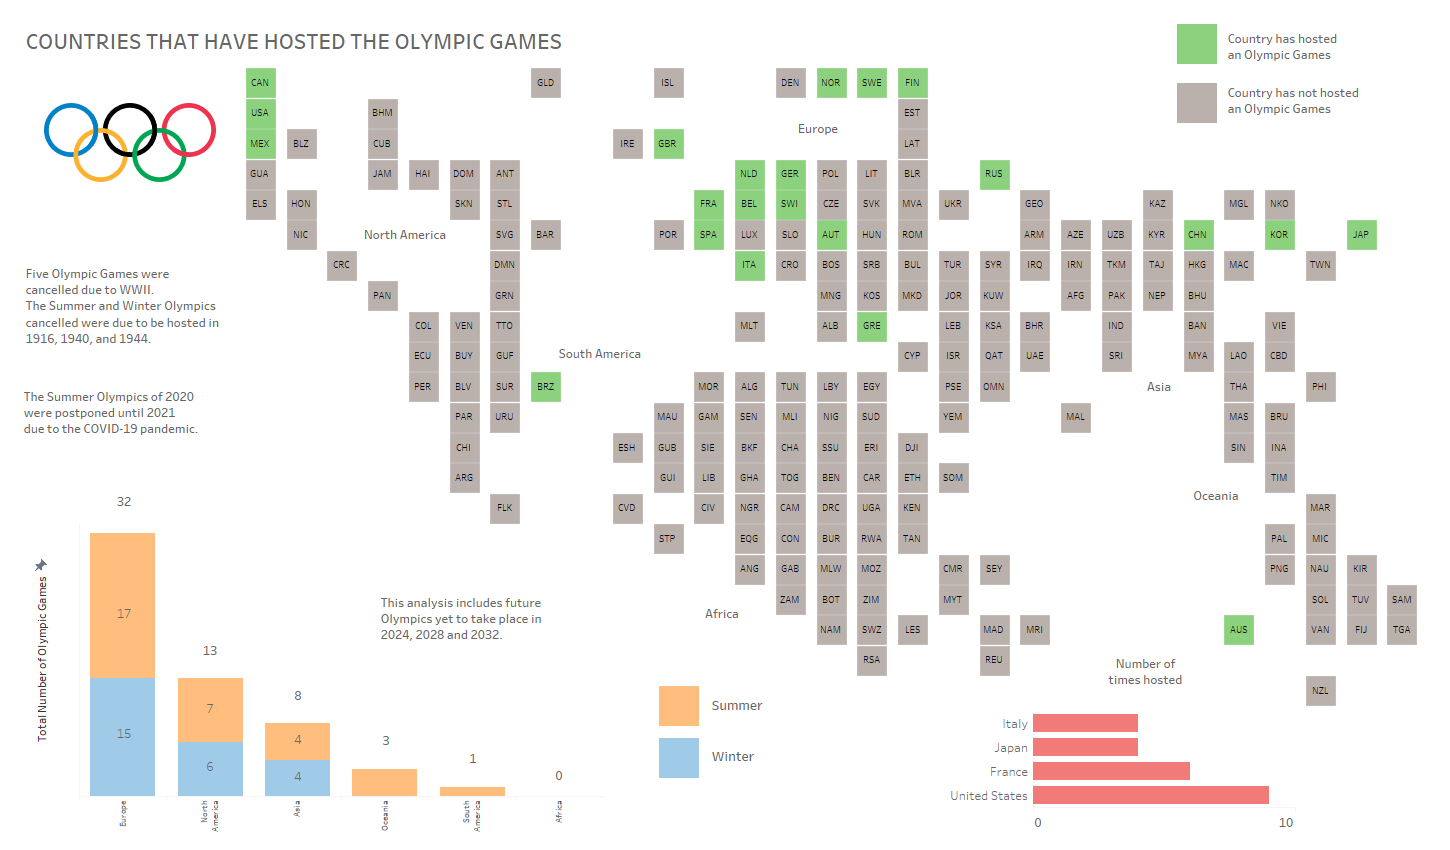

Layout of this report page (visuals, bound fields, positions):
{"tool":"tableau","page":{"name":"Dashboard 1","canvas":[1450,850],"ordinal":0},"visuals":[{"type":"text","box":[23,8,992,65]},{"type":"text","box":[1225,9,187,75]},{"type":"worksheet","title":"Sheet 3 (2)","mark":"Automatic","box":[1177,24,40,40]},{"type":"text","box":[1225,63,221,75]},{"type":"worksheet","title":"Sheet 4 (2)","mark":"Automatic","box":[1177,83,40,40]},{"type":"image","param":"Image/Olympic_rings_without_rims.svg","box":[44,98,172,90]},{"type":"text","box":[768,113,100,30]},{"type":"text","box":[335,219,140,30]},{"type":"text","box":[23,231,305,152]},{"type":"text","box":[530,338,140,30]},{"type":"text","box":[21,361,305,104]},{"type":"text","box":[1089,371,140,30]},{"type":"text","box":[1146,480,140,30]},{"type":"text","box":[104,497,40,28]},{"type":"text","box":[378,567,305,104]},{"type":"text","box":[652,598,140,30]},{"type":"text","box":[104,602,40,40]},{"type":"text","box":[1082,636,127,72]},{"type":"text","box":[190,639,40,40]},{"type":"text","box":[709,676,108,58]},{"type":"text","box":[278,683,40,40]},{"type":"worksheet","title":"Sheet 4","mark":"Automatic","box":[659,686,40,40]},{"type":"text","box":[190,703,40,40]},{"type":"worksheet","title":"Sheet 8","mark":"Automatic","rows":["Country (Host cities for Summer and Wint) (copy)_28009575111"],"cols":["Year"],"box":[933,711,362,126]},{"type":"text","box":[104,727,40,40]},{"type":"text","box":[709,727,108,58]},{"type":"text","box":[366,732,40,40]},{"type":"text","box":[278,737,40,40]},{"type":"worksheet","title":"Sheet 3","mark":"Automatic","box":[659,738,40,40]},{"type":"text","box":[453,755,40,40]},{"type":"text","box":[190,765,40,40]},{"type":"text","box":[539,765,40,40]},{"type":"text","box":[278,775,40,40]}]}

Visuals, with their boxes in screenshot pixels (x1, y1, x2, y2), scaled from the page's 1450x850 canvas onto the 1450x850 screenshot:
text: <region>23, 8, 1015, 73</region>
text: <region>1225, 9, 1412, 84</region>
"Sheet 3 (2)" worksheet: <region>1177, 24, 1217, 64</region>
text: <region>1225, 63, 1446, 138</region>
"Sheet 4 (2)" worksheet: <region>1177, 83, 1217, 123</region>
image: <region>44, 98, 216, 188</region>
text: <region>768, 113, 868, 143</region>
text: <region>335, 219, 475, 249</region>
text: <region>23, 231, 328, 383</region>
text: <region>530, 338, 670, 368</region>
text: <region>21, 361, 326, 465</region>
text: <region>1089, 371, 1229, 401</region>
text: <region>1146, 480, 1286, 510</region>
text: <region>104, 497, 144, 525</region>
text: <region>378, 567, 683, 671</region>
text: <region>652, 598, 792, 628</region>
text: <region>104, 602, 144, 642</region>
text: <region>1082, 636, 1209, 708</region>
text: <region>190, 639, 230, 679</region>
text: <region>709, 676, 817, 734</region>
text: <region>278, 683, 318, 723</region>
"Sheet 4" worksheet: <region>659, 686, 699, 726</region>
text: <region>190, 703, 230, 743</region>
"Sheet 8" worksheet: <region>933, 711, 1295, 837</region>
text: <region>104, 727, 144, 767</region>
text: <region>709, 727, 817, 785</region>
text: <region>366, 732, 406, 772</region>
text: <region>278, 737, 318, 777</region>
"Sheet 3" worksheet: <region>659, 738, 699, 778</region>
text: <region>453, 755, 493, 795</region>
text: <region>190, 765, 230, 805</region>
text: <region>539, 765, 579, 805</region>
text: <region>278, 775, 318, 815</region>
